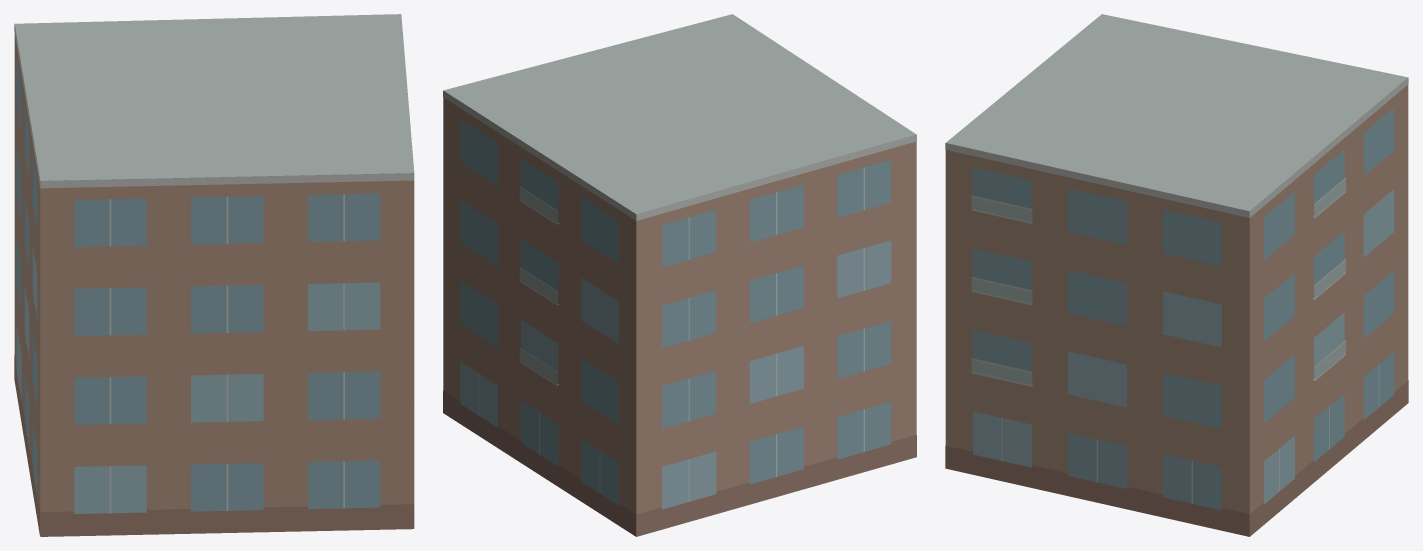
File: survey-upis-32805066.glb
The picture shows the model from 3 angles, left to right: view 1: azimuth 30°, elevation 25°; view 2: azimuth 150°, elevation 25°; view 3: azimuth 270°, elevation 25°; orthographic projection. The views are drawn at different scales.
Parts seen in each view (by area): view 1: survey-upis-32805066.tmp; view 2: survey-upis-32805066.tmp; view 3: survey-upis-32805066.tmp.
Boxes of the visible parts, <box> form: survey-upis-32805066.tmp: <box>14,14,414,536</box>; survey-upis-32805066.tmp: <box>443,14,916,536</box>; survey-upis-32805066.tmp: <box>945,14,1408,536</box>.
Size of the model in its own units: 15.21 by 11.7 by 15.08.
